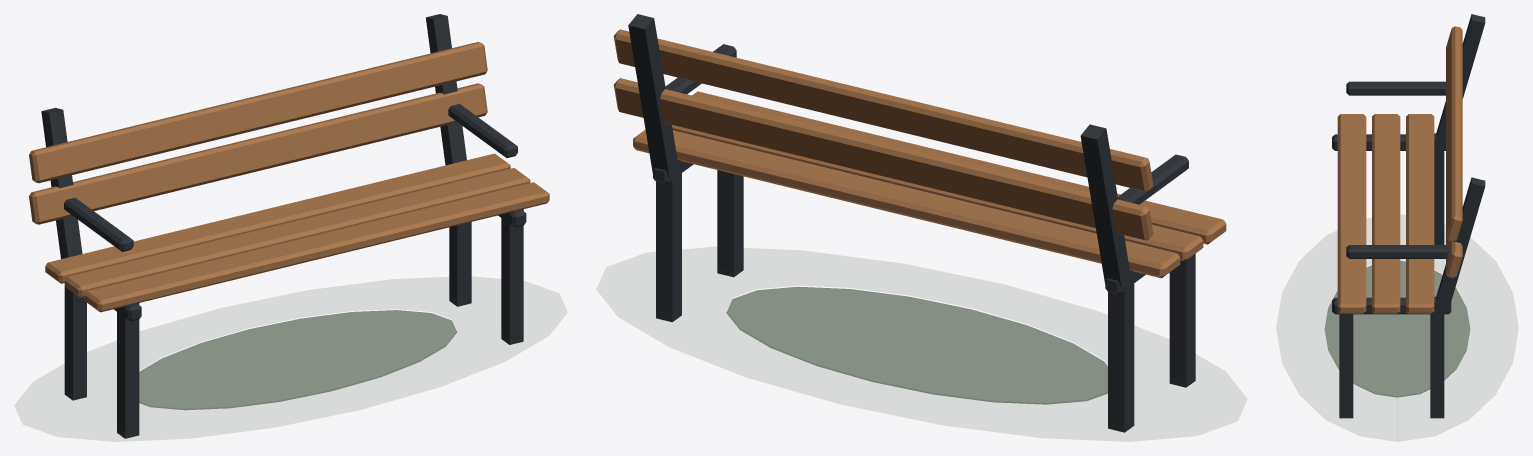
Rendered from bench.glb.
3 renders of one model, left to right at view 1: azimuth 30°, elevation 25°; view 2: azimuth 150°, elevation 25°; view 3: azimuth 270°, elevation 25°, orthographic. The views are drawn at different scales.
Visible parts, largest first — view 1: bench; view 2: bench; view 3: bench.
Boxes of the visible parts, box(x1,y1,x2,y2) form: bench: box(29, 14, 549, 438); bench: box(613, 14, 1226, 432); bench: box(1324, 14, 1485, 441).
Size of the model in its own units: 1.9 by 0.913 by 0.855.
